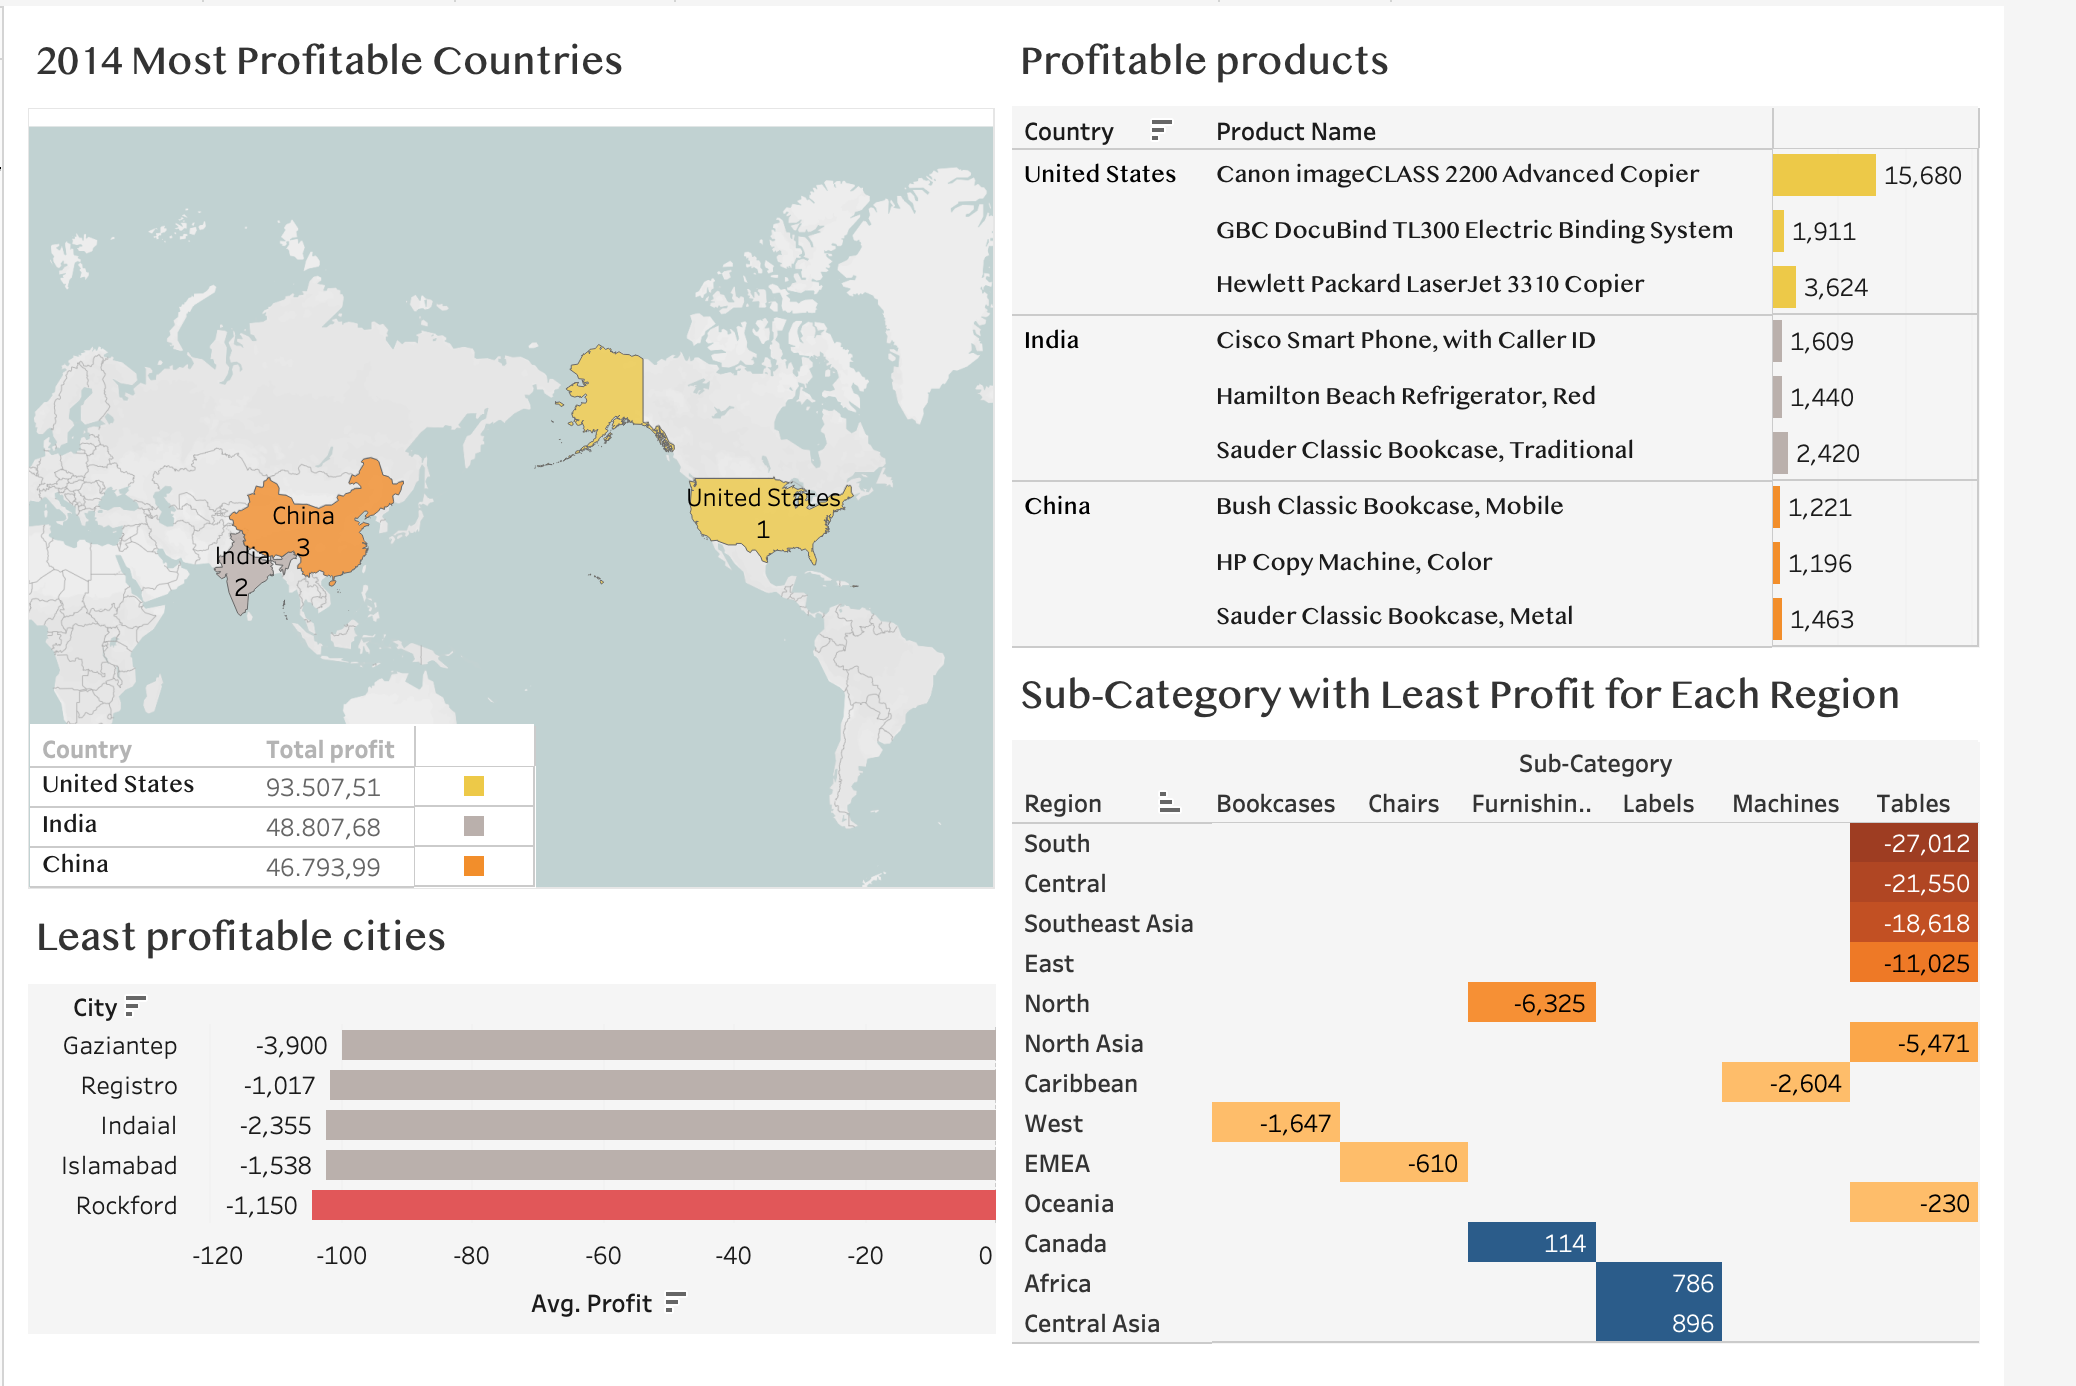

Layout of this report page (visuals, bound fields, positions):
{"tool":"tableau","page":{"name":"Dashboard 1","canvas":[1000,800],"ordinal":0},"visuals":[{"type":"worksheet","title":"q1","mark":"Multipolygon","box":[8,8,492,438]},{"type":"worksheet","title":"q1 (2)","mark":"Automatic","rows":["Country","Product Name"],"cols":["Profit"],"box":[500,8,492,317]},{"type":"worksheet","title":"Sub-Category with Least Profit for Each Region","mark":"Square","rows":["Region"],"cols":["Sub-Category"],"box":[500,325,492,467]},{"type":"worksheet","title":"q1 (3)","mark":"Square","rows":["Country","Calculation_1947947586560741380"],"box":[13,345,269,114]},{"type":"worksheet","title":"Sheet 4","mark":"Automatic","rows":["City"],"cols":["Profit"],"box":[8,446,492,346]}]}

Visuals, with their boxes on the page's 1000x800 design canvas (x1, y1, x2, y2). These are canvas units, not pixel positions in the 2076x1386 screenshot, which may show the page scaled, cropped or inside an application window:
"q1" worksheet (Multipolygon marks): [left=8, top=8, right=500, bottom=446]
"q1 (2)" worksheet: [left=500, top=8, right=992, bottom=325]
"Sub-Category with Least Profit for Each Region" worksheet (Square marks): [left=500, top=325, right=992, bottom=792]
"q1 (3)" worksheet (Square marks): [left=13, top=345, right=282, bottom=459]
"Sheet 4" worksheet: [left=8, top=446, right=500, bottom=792]
